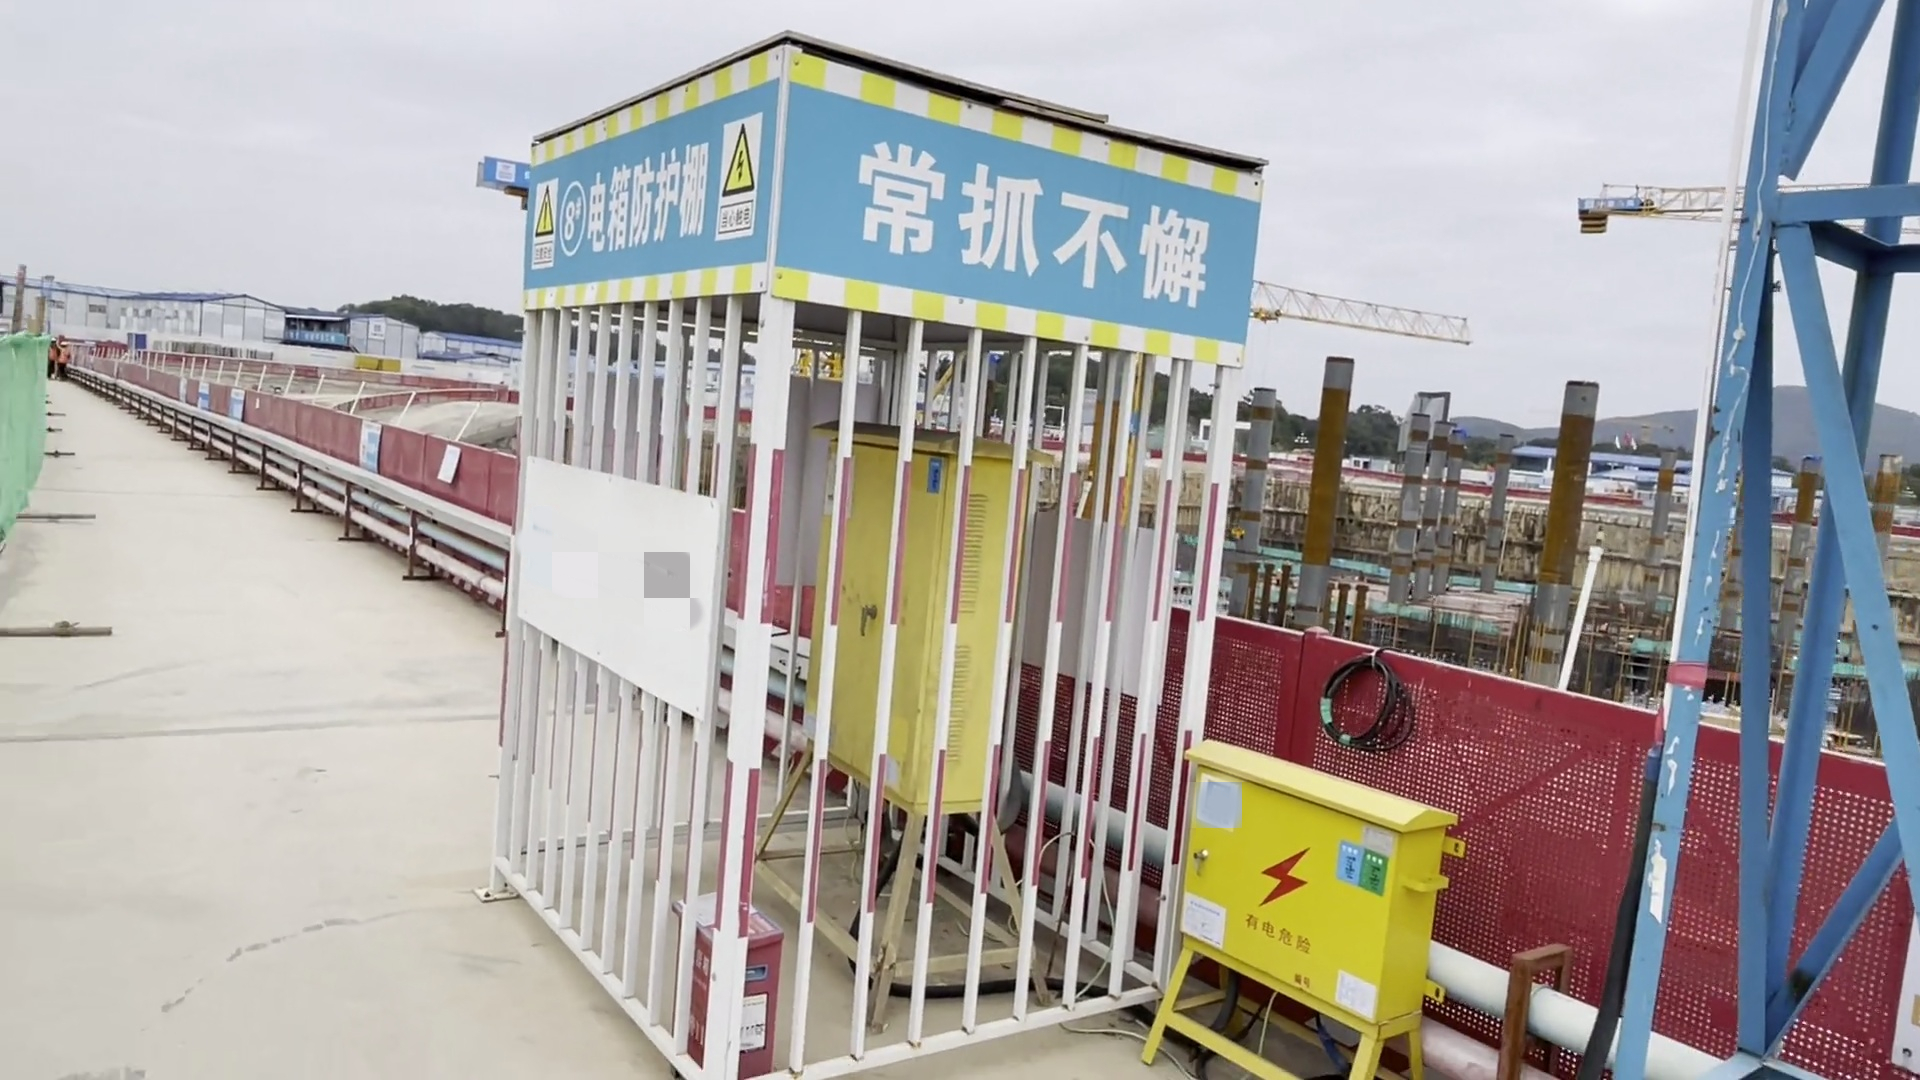ebox: (752, 404, 1077, 992), (1145, 720, 1466, 1080)
